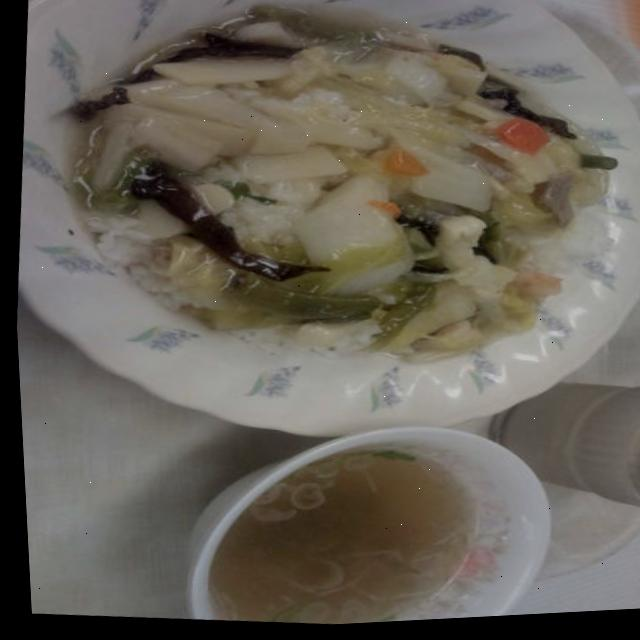汤锅炖物: (185, 419, 503, 633)
